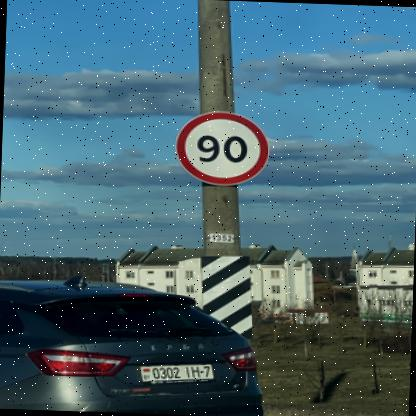speedlimit: (172, 110, 268, 186)
